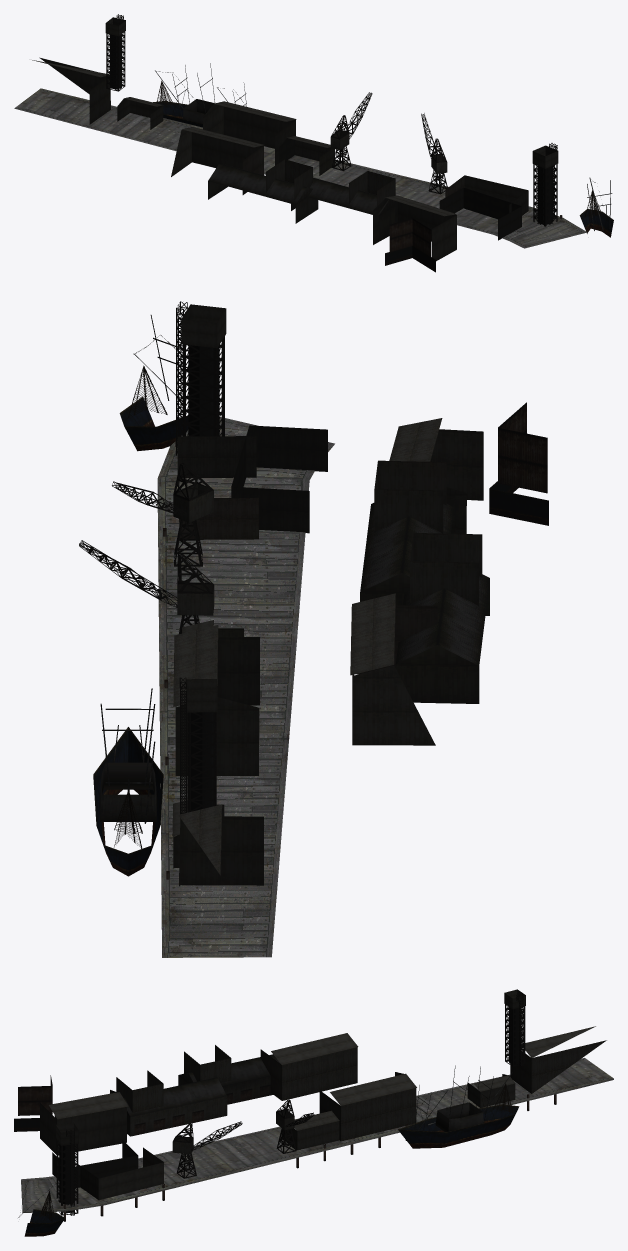
The model's file is cell_14_-12.gltf.
3 renders of one model, top to bottom at view 1: azimuth 30°, elevation 25°; view 2: azimuth 150°, elevation 25°; view 3: azimuth 270°, elevation 25°, orthographic. The views are drawn at different scales.
Visible parts, largest first — view 1: cell_14_-12; view 2: cell_14_-12; view 3: cell_14_-12.
Boxes of the visible parts, x1,y1,x2,y2 form: cell_14_-12: (14,14,613,272); cell_14_-12: (79,301,548,957); cell_14_-12: (14,989,613,1236).
Size of the model in its own units: 184 by 58.06 by 276.
Materials: 9 (9 with a texture image).
